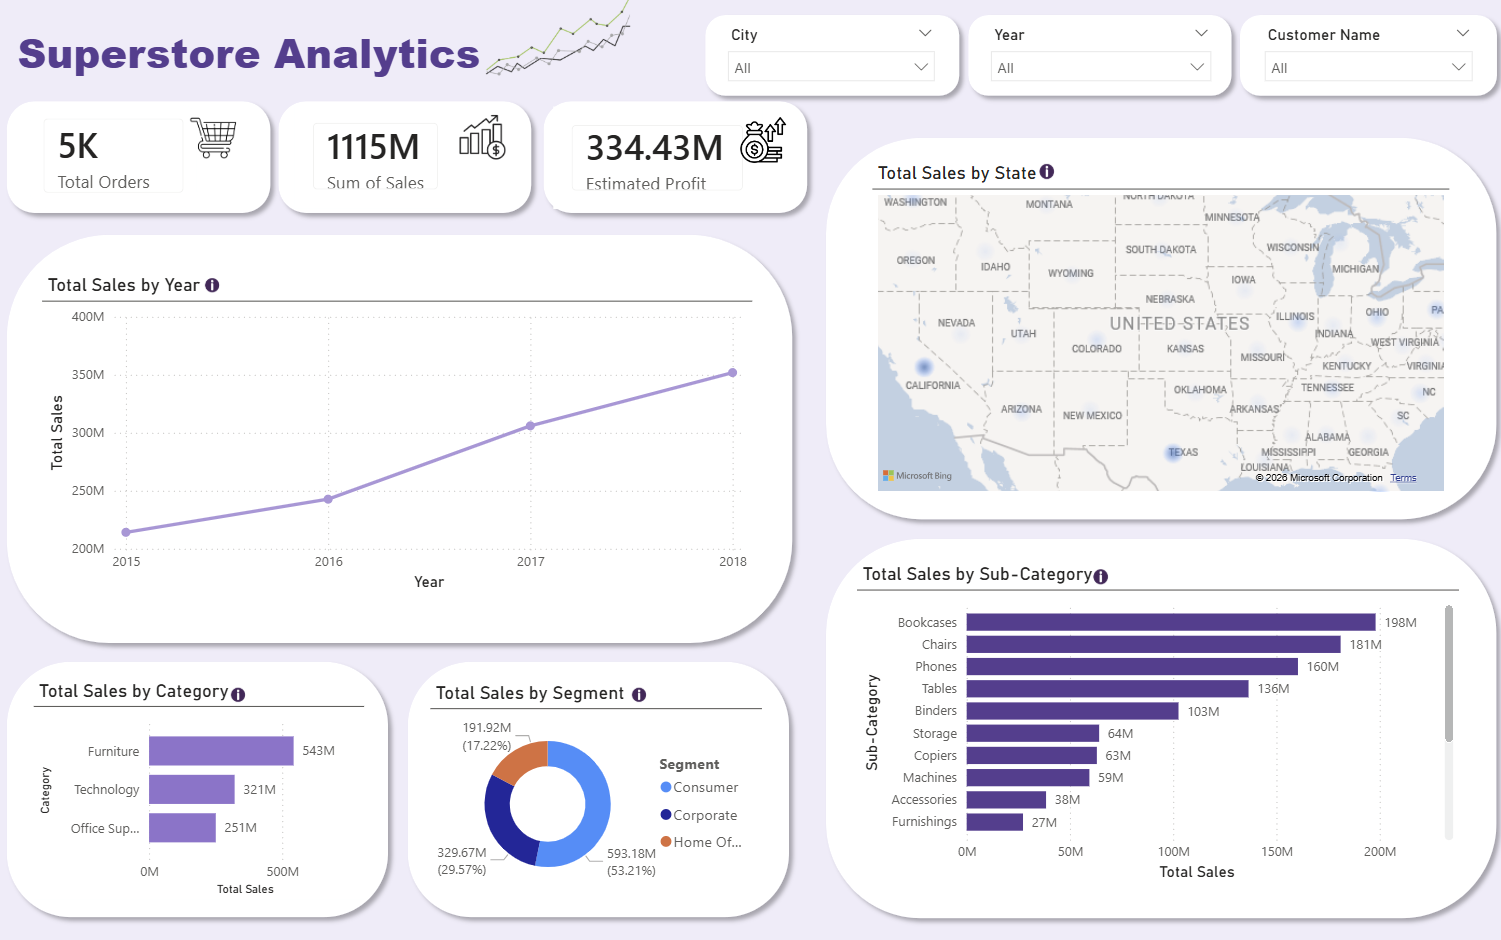

The page's visual inventory and layout, read from the dashboard file:
{"tool":"powerbi","page":{"name":"Page 1","canvas":[1400,900],"ordinal":0},"visuals":[{"type":"shape","box":[1143.6,10,256.4,92.9],"z":0},{"type":"shape","box":[892.9,10,262.1,92.9],"z":1000},{"type":"shape","box":[648.6,10,253.6,92.9],"z":2000},{"type":"shape","box":[497.5,90.8,262.5,121.7],"z":3000},{"type":"shape","box":[252.5,90.8,252.5,121.7],"z":4000},{"type":"shape","box":[0,90.8,262.5,121.7],"z":5000},{"type":"shape","box":[760,124,640,372],"z":6000},{"type":"shape","box":[760,496,640,370],"z":7000},{"type":"shape","box":[371.7,610,371.7,255],"z":8000},{"type":"shape","box":[0,610,371.7,255],"z":9000},{"type":"shape","box":[0,213.3,746.7,396.7],"z":10000},{"type":"barChart","fields":{"Category":["train.Category"],"Y":["train.Total Sales"]},"box":[33.3,636.7,306.7,203.3],"z":11000},{"type":"barChart","fields":{"Category":["train.Sub-Category"],"Y":["train.Total Sales"]},"box":[798,528,558,298],"z":12000},{"type":"lineChart","fields":{"Category":["train.Year"],"Y":["train.Total Sales"]},"box":[41.7,260,658.3,296.7],"z":13000},{"type":"donutChart","fields":{"Category":["train.Segment"],"Y":["train.Total Sales"]},"box":[402.5,638.8,307.5,200],"z":14000},{"type":"cardVisual","fields":{"Data":["Sum(train.Sales)"]},"box":[276.2,102.5,150,96.2],"z":15000},{"type":"cardVisual","fields":{"Data":["train.Total Orders"]},"box":[29.3,102.1,156.4,95.7],"z":16000},{"type":"slicer","fields":{"Values":["train.City"]},"box":[668.6,24.3,212.1,66.4],"z":17000},{"type":"slicer","fields":{"Values":["train.Customer Name"]},"box":[1165,24.3,212.9,65.7],"z":18000},{"type":"textbox","box":[13.3,21.7,448.3,65],"z":19000},{"type":"slicer","fields":{"Values":["train.Year"]},"box":[911.4,24.3,224.3,62.1],"z":20000},{"type":"map","fields":{"Size":["train.Total Sales"],"Category":["train.Country","train.State","train.City"]},"box":[812.5,156.2,535,308.8],"z":21000},{"type":"cardVisual","fields":{"Data":["train.Estimated Profit"]},"box":[516.2,103.8,193.8,95],"z":22000},{"type":"image","box":[435,0,163.3,86.7],"z":23000},{"type":"image","box":[168.8,110,68.8,46.2],"z":24000},{"type":"image","box":[415,106.2,68.8,50],"z":25000},{"type":"image","box":[672.5,106.2,75,58.8],"z":26000},{"type":"image","box":[188.3,262.8,22.8,15.6],"z":27000},{"type":"image","box":[212.2,641.1,22.8,15.6],"z":28000},{"type":"image","box":[583.3,641.1,22.8,15.6],"z":29000},{"type":"image","box":[1012.1,531.6,23.2,16.3],"z":30000},{"type":"image","box":[962.5,156.9,23.1,16.2],"z":31000}]}

Visuals, with their boxes in screenshot pixels (x1, y1, x2, y2), scaled from the page's 1400x900 canvas onto the 1501x940 screenshot:
shape: [1226,10,1500,107]
shape: [957,10,1238,107]
shape: [695,10,967,107]
shape: [533,95,815,222]
shape: [271,95,541,222]
shape: [0,95,281,222]
shape: [815,130,1500,518]
shape: [815,518,1500,904]
shape: [399,637,797,903]
shape: [0,637,399,903]
shape: [0,223,801,637]
barChart - train.Category x train.Total Sales: [36,665,365,877]
barChart - train.Sub-Category x train.Total Sales: [856,551,1454,863]
lineChart - train.Year x train.Total Sales: [45,272,750,581]
donutChart - train.Segment x train.Total Sales: [432,667,761,876]
cardVisual - Sum(train.Sales): [296,107,457,208]
cardVisual - train.Total Orders: [31,107,199,207]
slicer - train.City: [717,25,944,95]
slicer - train.Customer Name: [1249,25,1477,94]
textbox: [14,23,495,91]
slicer - train.Year: [977,25,1218,90]
map - train.Total Sales x train.Country: [871,163,1445,486]
cardVisual - train.Estimated Profit: [553,108,761,208]
image: [466,0,641,91]
image: [181,115,255,163]
image: [445,111,519,163]
image: [721,111,801,172]
image: [202,274,226,291]
image: [228,670,252,686]
image: [625,670,650,686]
image: [1085,555,1110,572]
image: [1032,164,1057,181]
